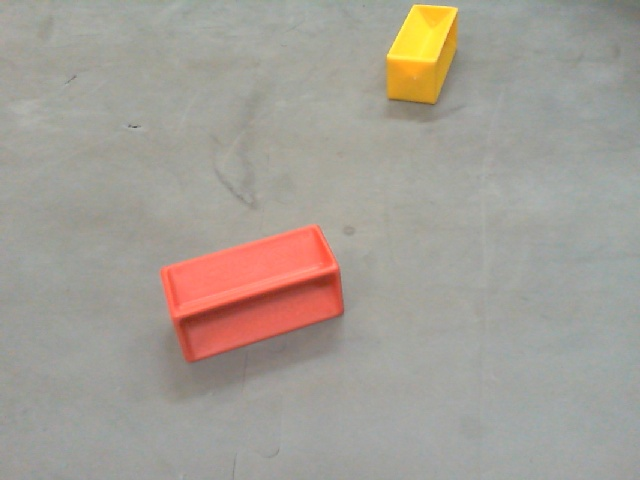RedSample: (161, 226, 345, 363)
YellowSample: (384, 1, 459, 104)
